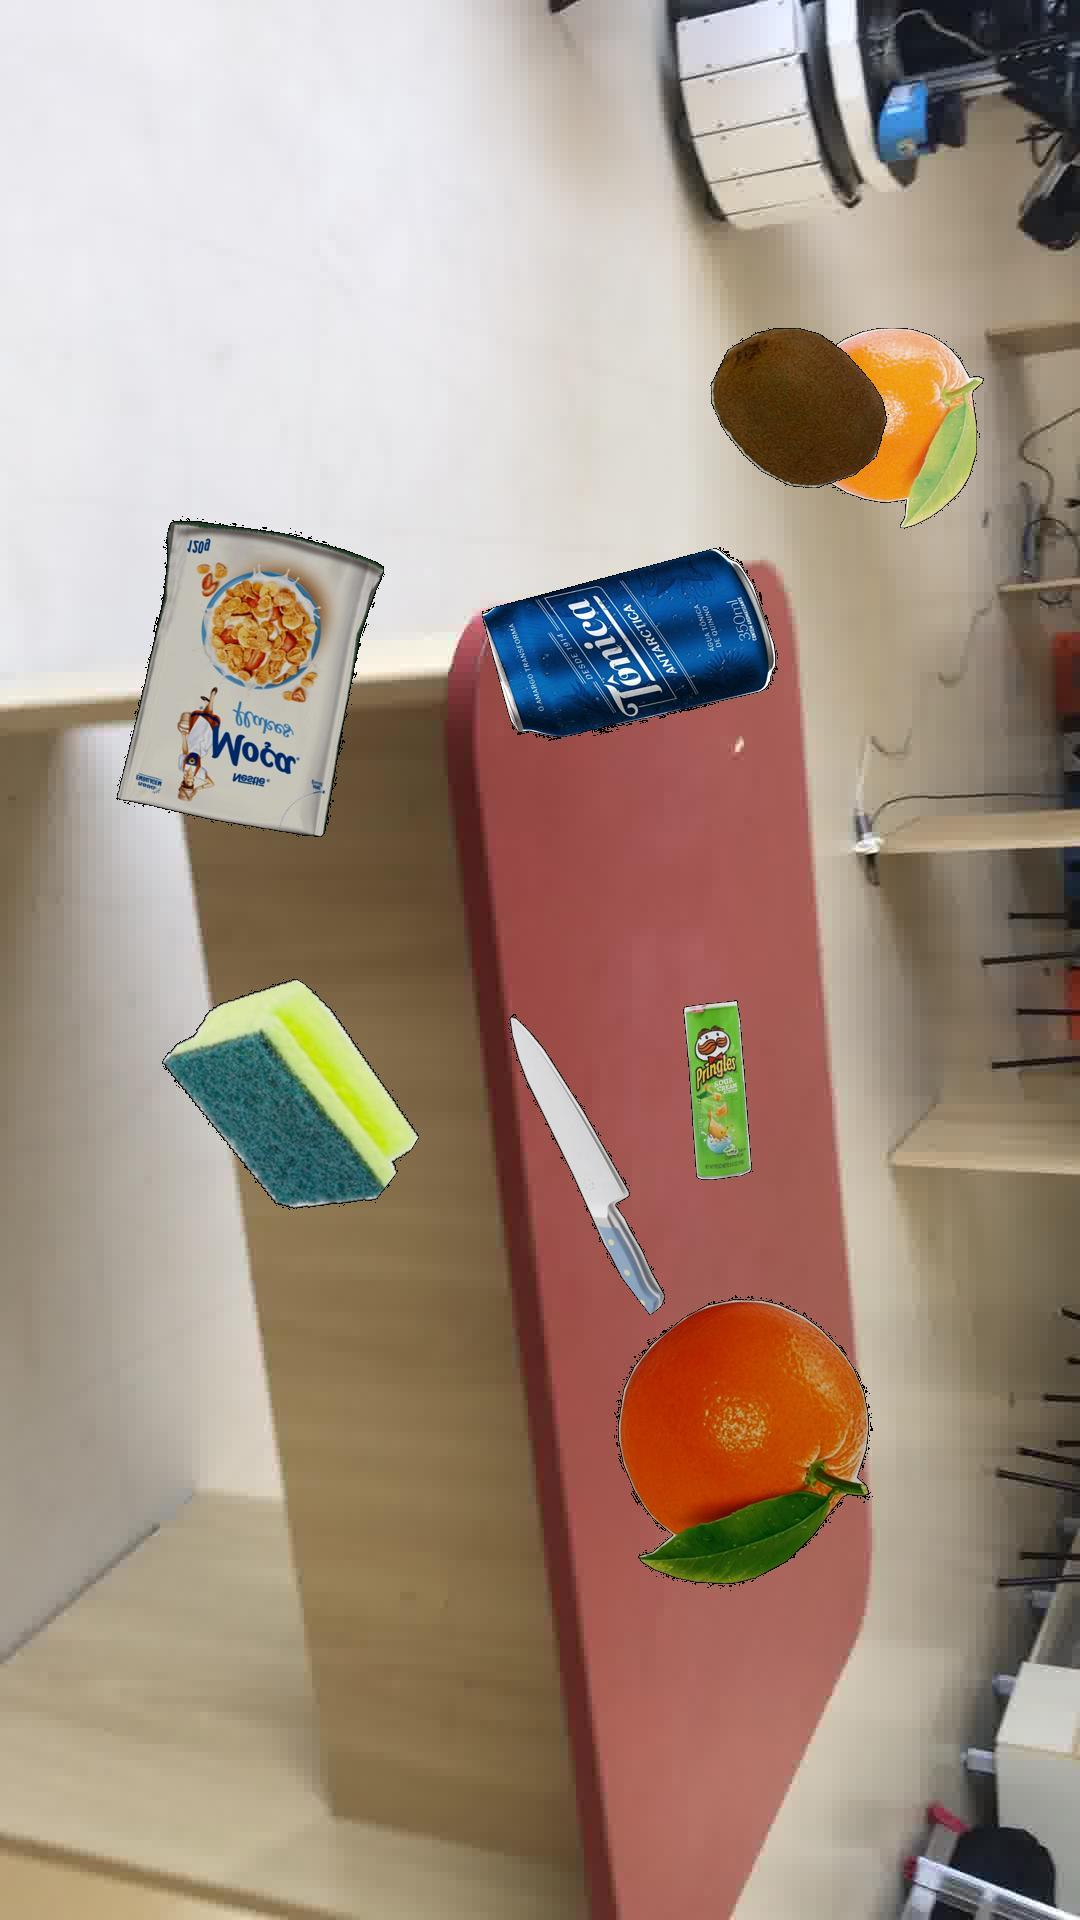corn flakes: (115, 517, 382, 836)
kiwi: (708, 327, 886, 487)
knife: (508, 1013, 663, 1313)
orange: (615, 1295, 869, 1584), (831, 327, 982, 527)
pringles: (682, 998, 750, 1179)
sponge: (161, 977, 418, 1208)
tonic: (481, 546, 777, 740)
